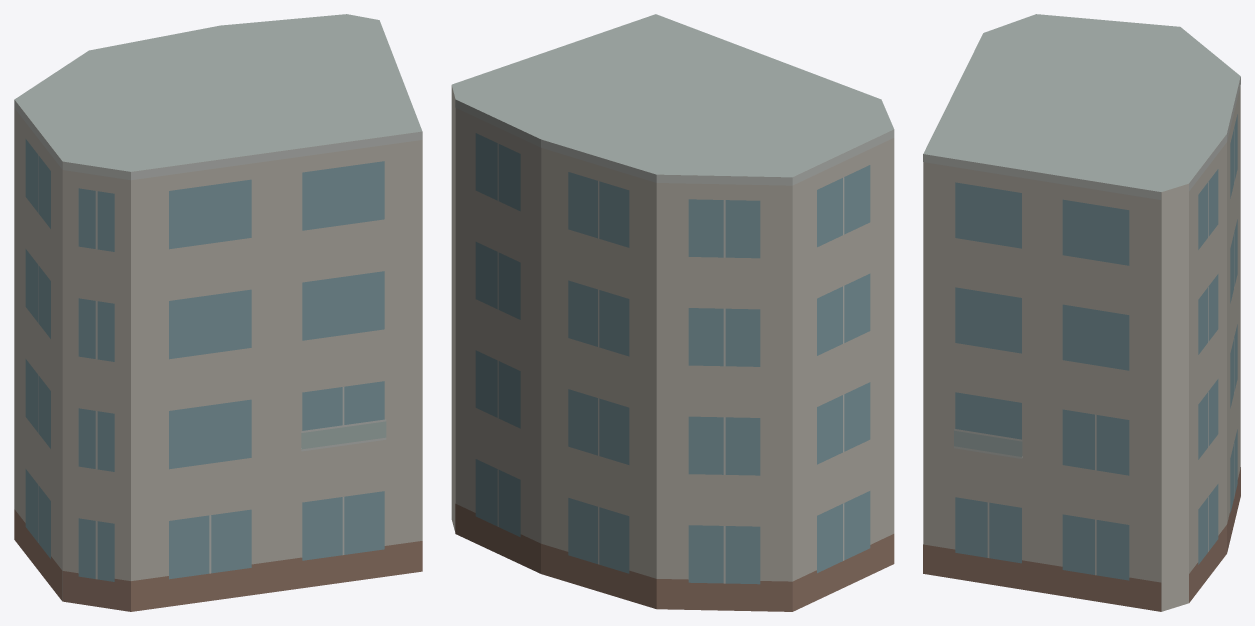
Rendered from survey-upis-32486916.glb.
3 views of the same model, side by side, from view 1: azimuth 30°, elevation 25°; view 2: azimuth 150°, elevation 25°; view 3: azimuth 270°, elevation 25° (orthographic). The views are drawn at different scales.
Visible parts, largest first — view 1: survey-upis-32486916.tmp; view 2: survey-upis-32486916.tmp; view 3: survey-upis-32486916.tmp.
Boxes of the visible parts, x1=… form: survey-upis-32486916.tmp: x1=14, y1=14, x2=422, y2=611; survey-upis-32486916.tmp: x1=451, y1=14, x2=894, y2=611; survey-upis-32486916.tmp: x1=923, y1=14, x2=1240, y2=611.
Bounding box in the file's own units: 11.66 × 12.8 × 8.79.
